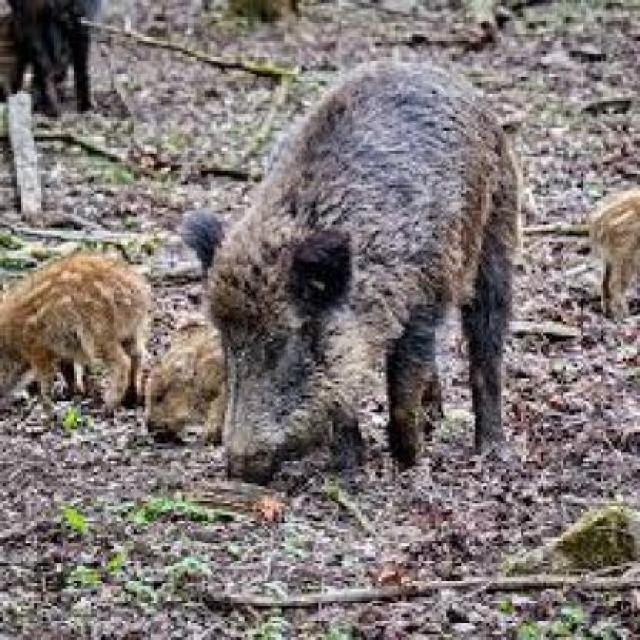wildboar: (175, 61, 533, 508), (0, 236, 157, 418), (132, 302, 263, 456), (583, 182, 640, 330)
